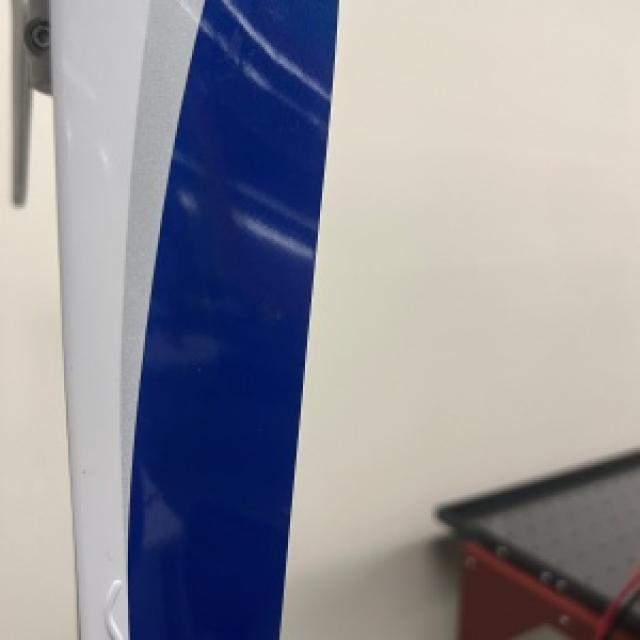healthy: (17, 0, 333, 638), (435, 452, 638, 638)
